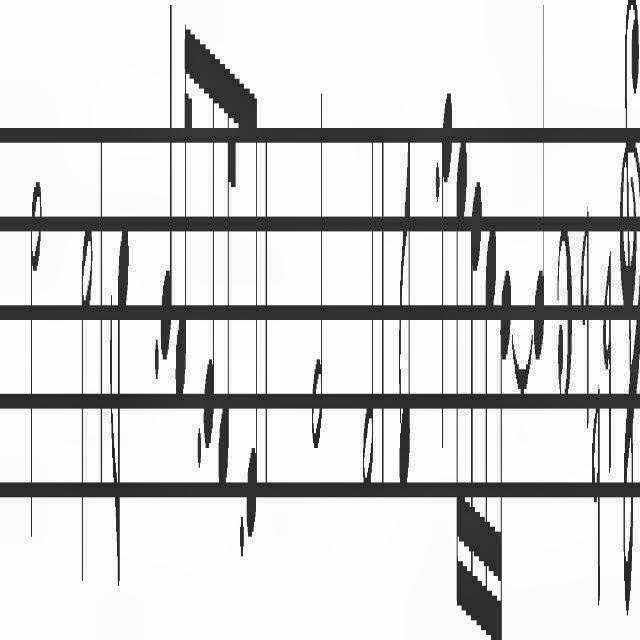Bass-clef: (616, 0, 640, 640)
Bemol: (580, 185, 592, 431), (604, 235, 614, 499), (592, 381, 602, 631)
Eighth-note: (105, 187, 134, 611), (396, 117, 412, 515), (246, 67, 258, 559), (204, 23, 216, 459)
Half-note: (24, 167, 48, 563), (78, 213, 99, 595), (309, 65, 325, 475), (362, 117, 376, 527)
Quarter-note: (160, 1, 174, 367), (441, 75, 453, 467), (534, 1, 546, 380)
Sixteenth-note: (217, 37, 235, 527), (174, 37, 194, 415), (456, 135, 468, 615), (470, 181, 482, 639), (499, 266, 513, 640), (486, 226, 498, 640)
